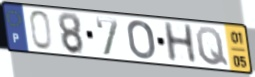0: (28, 9, 56, 52)
7: (95, 15, 121, 57)
8: (57, 10, 86, 56)
H: (161, 21, 199, 64)
O: (126, 19, 158, 61)
Q: (194, 25, 230, 68)
